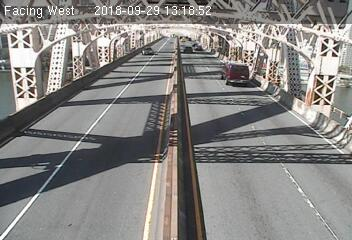car: (220, 62, 254, 87), (139, 45, 157, 57), (181, 45, 193, 54)
